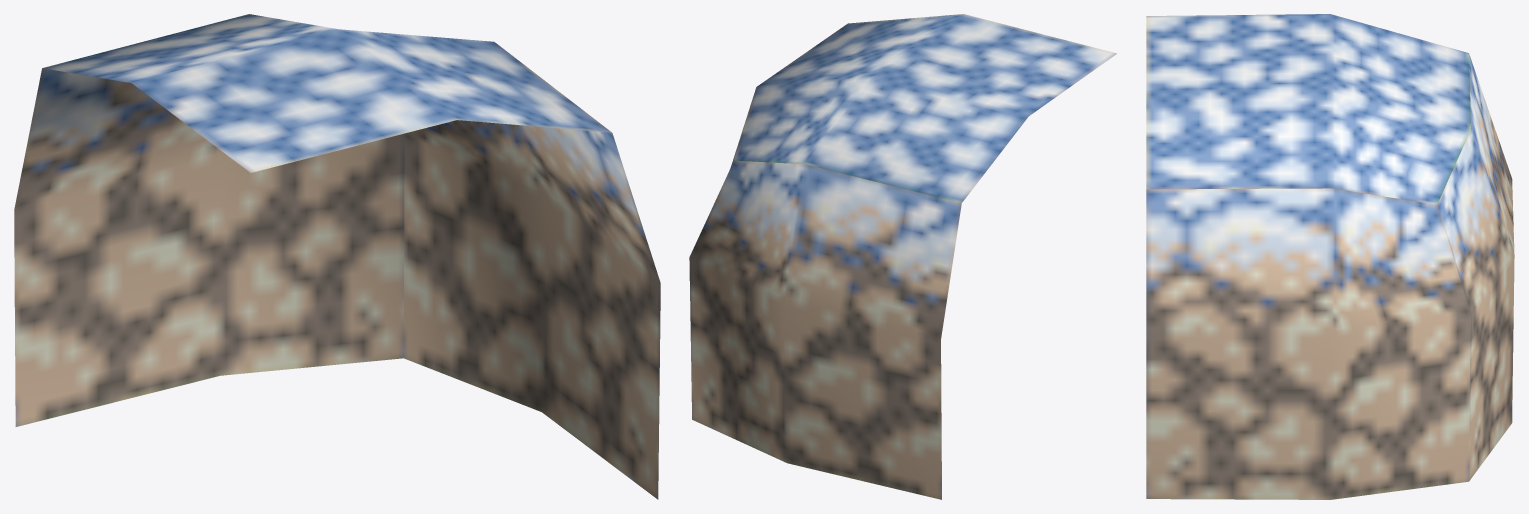
File: snowSTile_groundCorner_upperRight.fbx
The picture shows the model from 3 angles, left to right: view 1: azimuth 30°, elevation 25°; view 2: azimuth 150°, elevation 25°; view 3: azimuth 270°, elevation 25°; orthographic projection. The views are drawn at different scales.
Visible parts, largest first — view 1: snowSTile_groundCorner_upperRight; view 2: snowSTile_groundCorner_upperRight; view 3: snowSTile_groundCorner_upperRight.
Part boxes in pixels (bbox=[...]): snowSTile_groundCorner_upperRight: bbox=[14, 14, 660, 499]; snowSTile_groundCorner_upperRight: bbox=[689, 14, 1116, 499]; snowSTile_groundCorner_upperRight: bbox=[1146, 14, 1514, 499].
Bounding box in the file's own units: 1.01 × 1.01 × 1.01.
